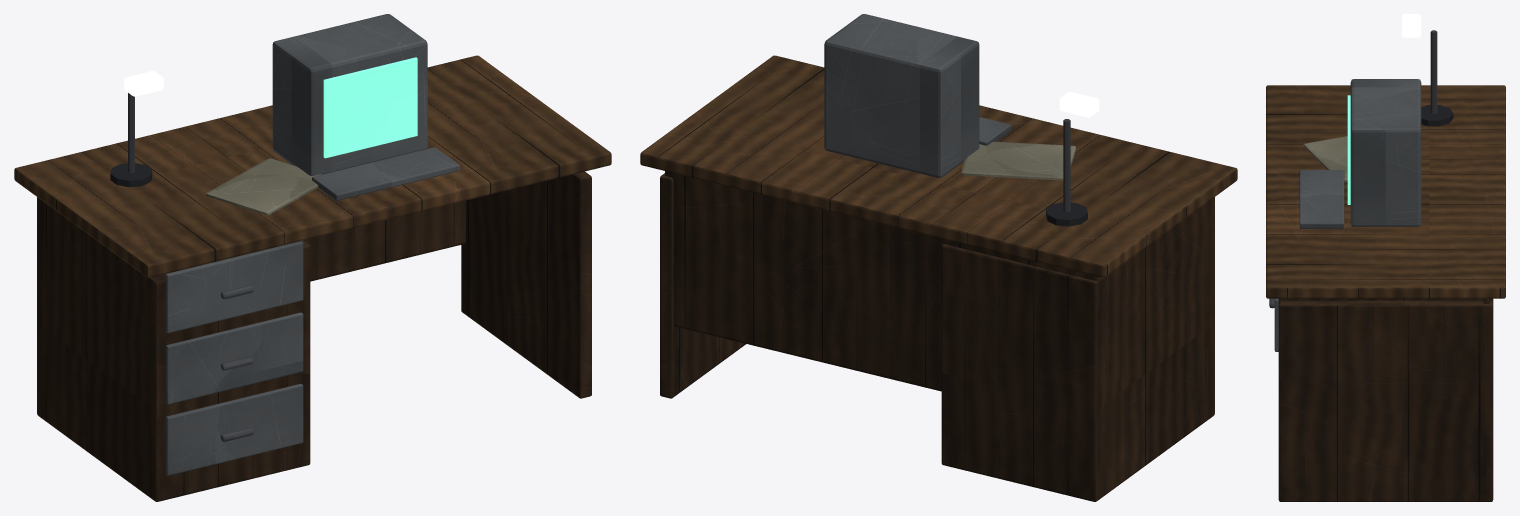
Rendered from desk_office.glb.
3 renders of one model, left to right at view 1: azimuth 30°, elevation 25°; view 2: azimuth 150°, elevation 25°; view 3: azimuth 270°, elevation 25°, orthographic. The views are drawn at different scales.
Visible parts, largest first — view 1: body; view 2: body; view 3: body.
Boxes of the visible parts, left/top/right/bottom form: body: left=14, top=14, right=611, bottom=501; body: left=640, top=14, right=1237, bottom=501; body: left=1266, top=14, right=1505, bottom=501.
Bounding box in the file's own units: 1.5 × 1.1 × 0.75.
8 materials, 7 textured.
